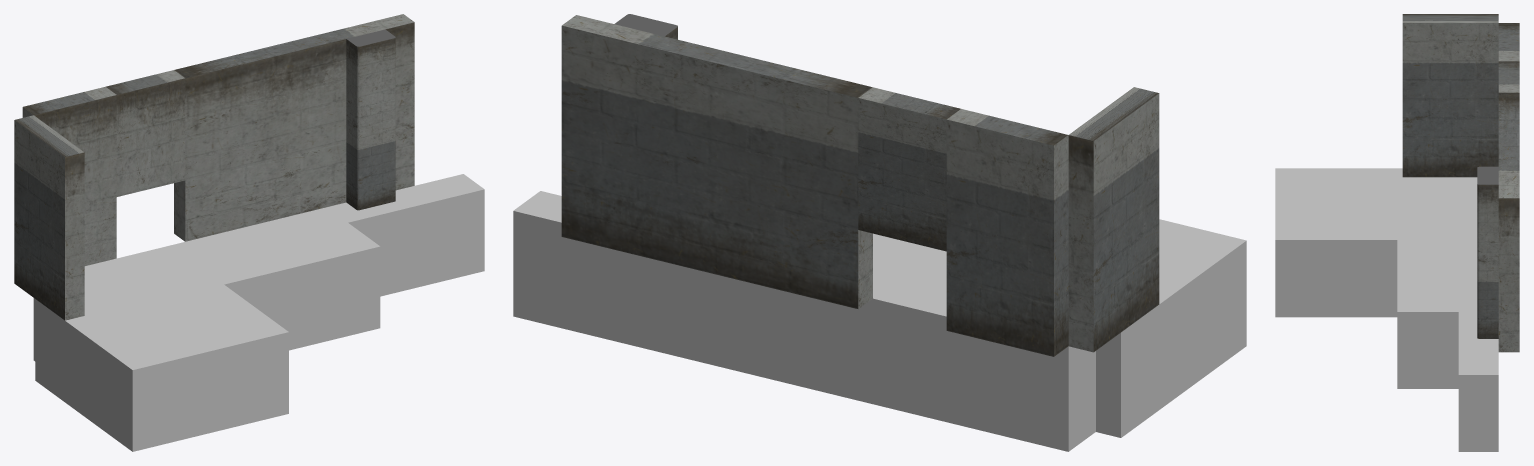
File: rublerefe.fbx
3 views of the same model, side by side, from view 1: azimuth 30°, elevation 25°; view 2: azimuth 150°, elevation 25°; view 3: azimuth 270°, elevation 25° (orthographic). The views are drawn at different scales.
Parts seen in each view (by area): view 1: mesh_3, mesh_10, mesh_4, mesh_557, mesh_53, mesh_262, mesh_11, mesh_12; view 2: mesh_10, mesh_4, mesh_12, mesh_53, mesh_3, mesh_11, mesh_557, mesh_262; view 3: mesh_3, mesh_53, mesh_557, mesh_4, mesh_10, mesh_262, mesh_12, mesh_11.
Part boxes in pixels (bbox=[...]): mesh_3: bbox=[35, 261, 288, 451]; mesh_10: bbox=[174, 14, 414, 241]; mesh_4: bbox=[33, 174, 484, 361]; mesh_557: bbox=[192, 223, 380, 350]; mesh_53: bbox=[14, 115, 84, 320]; mesh_262: bbox=[346, 29, 395, 210]; mesh_11: bbox=[106, 70, 185, 196]; mesh_12: bbox=[22, 86, 116, 265]; mesh_10: bbox=[561, 15, 872, 308]; mesh_4: bbox=[513, 191, 1095, 451]; mesh_12: bbox=[946, 109, 1068, 356]; mesh_53: bbox=[1068, 87, 1159, 352]; mesh_3: bbox=[919, 219, 1246, 437]; mesh_11: bbox=[858, 87, 960, 251]; mesh_557: bbox=[873, 233, 946, 282]; mesh_262: bbox=[614, 14, 677, 39]; mesh_3: bbox=[1275, 168, 1458, 317]; mesh_53: bbox=[1402, 14, 1498, 177]; mesh_557: bbox=[1397, 240, 1458, 388]; mesh_4: bbox=[1458, 177, 1498, 451]; mesh_10: bbox=[1498, 92, 1519, 352]; mesh_262: bbox=[1477, 166, 1498, 338]; mesh_12: bbox=[1498, 23, 1519, 61]; mesh_11: bbox=[1498, 61, 1519, 92].
Bounding box in the file's own units: 368 × 192 × 184.
